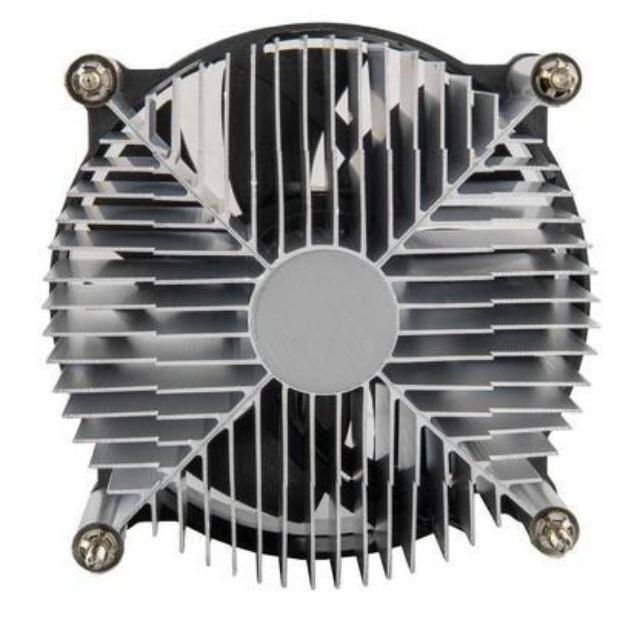CPU_Fan: (44, 23, 598, 588)
